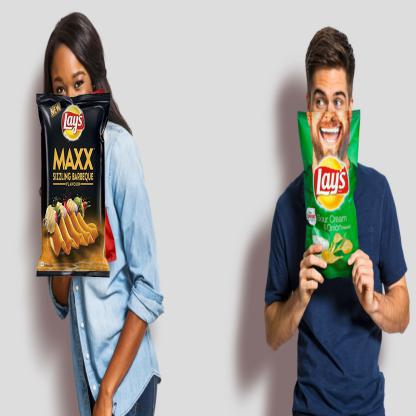cream_and_onion: (298, 106, 361, 281)
maxx_sizzling_barbeque: (37, 96, 106, 274)
